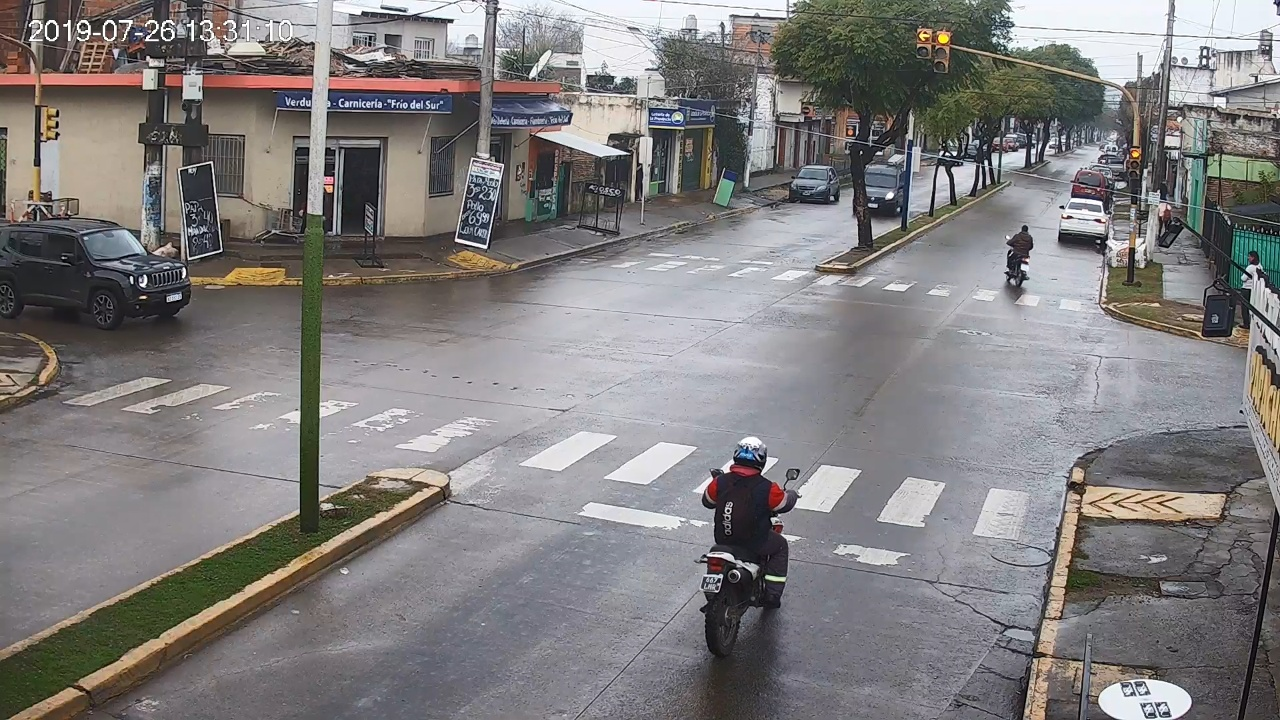car: (1059, 198, 1109, 248)
front car: (1, 217, 191, 329)
motorcycle: (697, 467, 802, 655), (1005, 233, 1034, 288)
traffic light: (935, 30, 949, 72), (1129, 148, 1140, 180)
